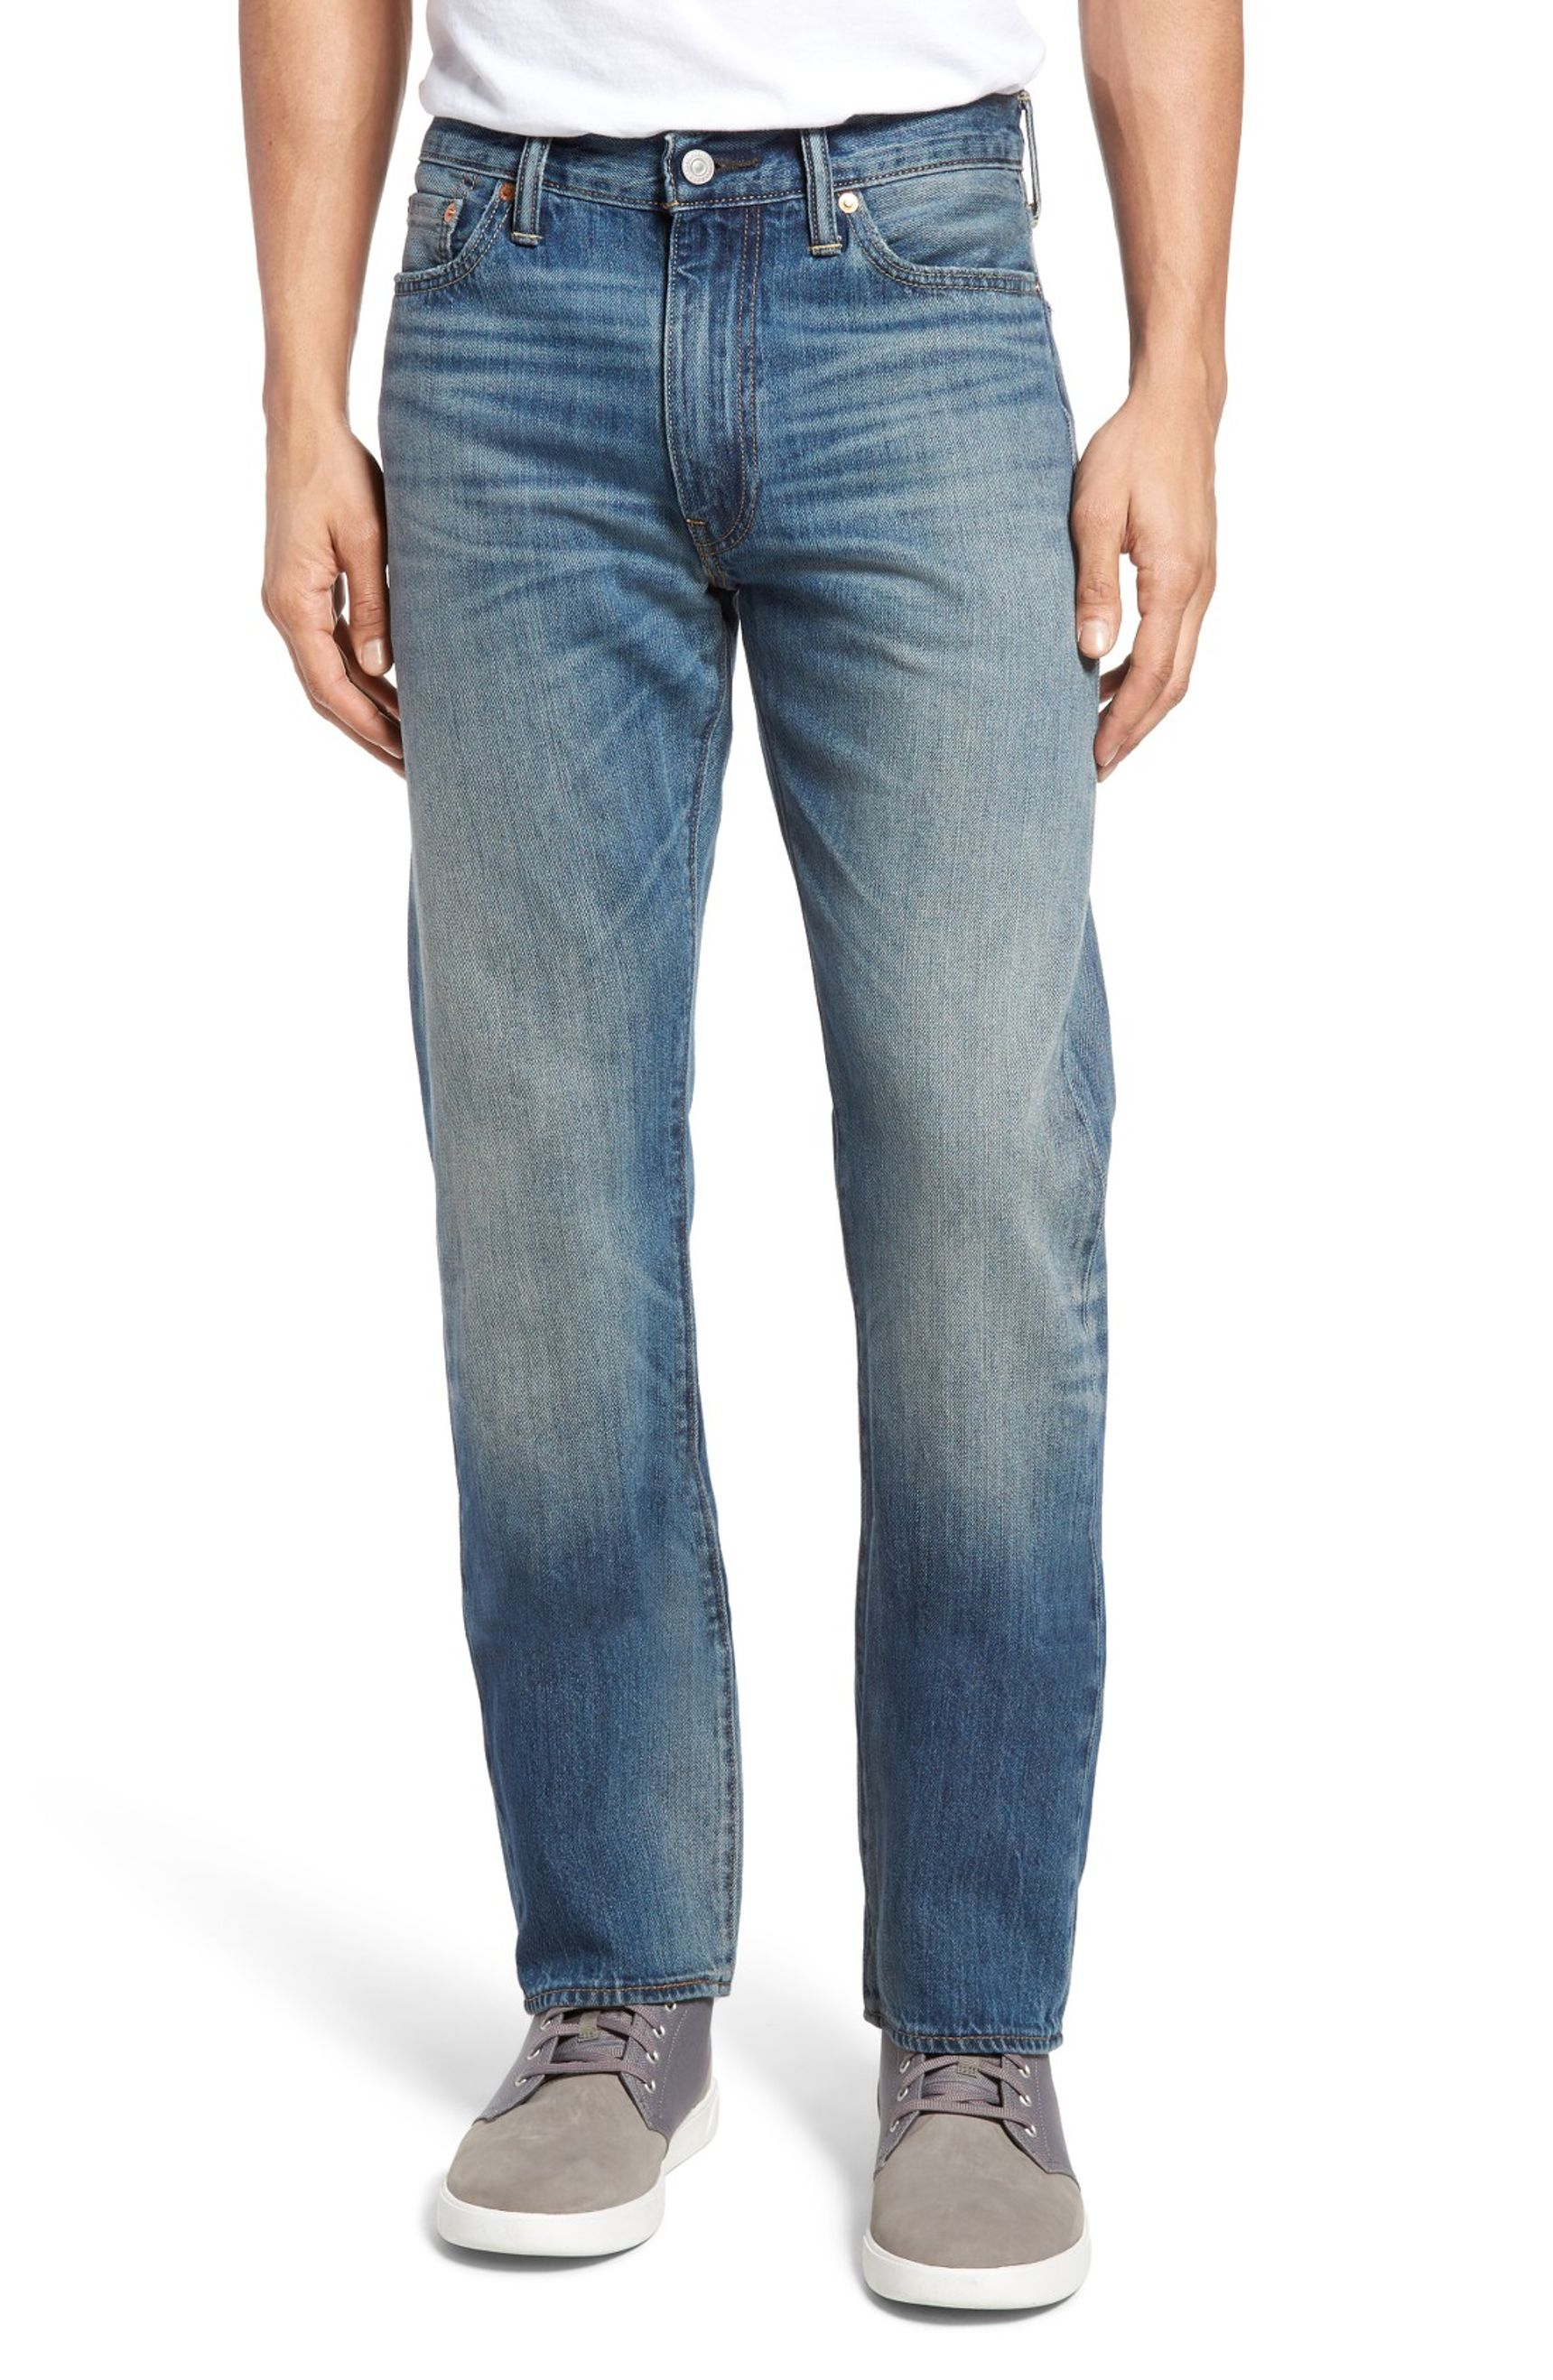Jeans: (366, 83, 1145, 2076)
